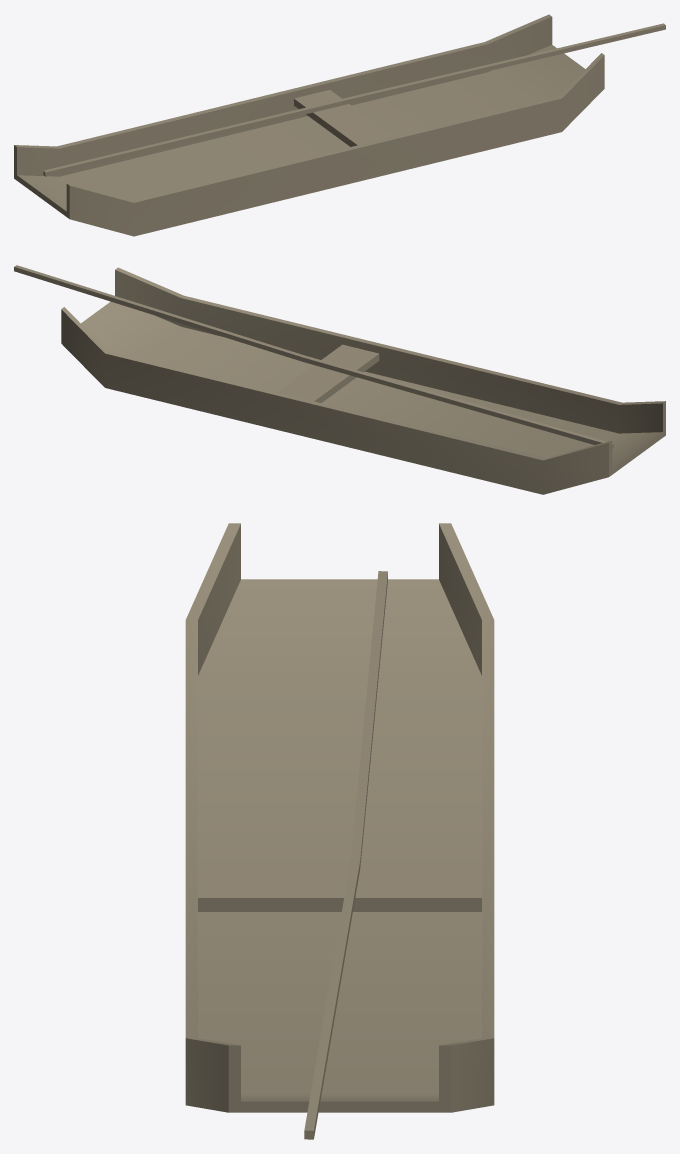
File: Punt.fbx
The picture shows the model from 3 angles, top to bottom: view 1: azimuth 30°, elevation 25°; view 2: azimuth 150°, elevation 25°; view 3: azimuth 270°, elevation 25°; orthographic projection. The views are drawn at different scales.
Visible parts, largest first — view 1: Punt; view 2: Punt; view 3: Punt.
Part boxes in pixels (x1,y1,x2,y2): Punt: (14, 14, 665, 236); Punt: (14, 265, 665, 494); Punt: (185, 523, 494, 1139).
Bounding box in the file's own units: 4.6 × 0.4 × 1.
